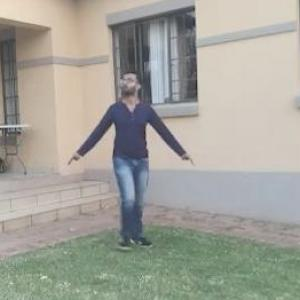land: (78, 80, 177, 238)
